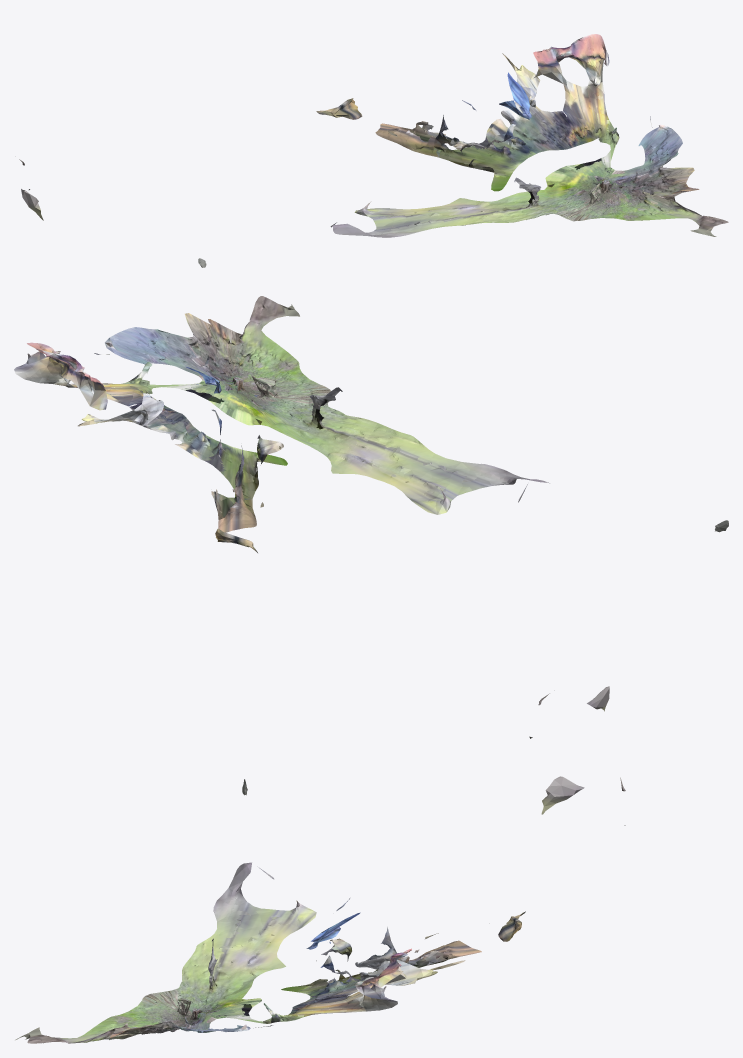
The model's file is map_057be6eb-63cd-4648-b549-c5ebe3e08659_densified_mesh_textured.obj.
The picture shows the model from 3 angles, top to bottom: view 1: azimuth 30°, elevation 25°; view 2: azimuth 150°, elevation 25°; view 3: azimuth 270°, elevation 25°; orthographic projection. The views are drawn at different scales.
Size of the model in its own units: 83.09 by 17 by 82.8.
Materials: 1 (1 with a texture image).
